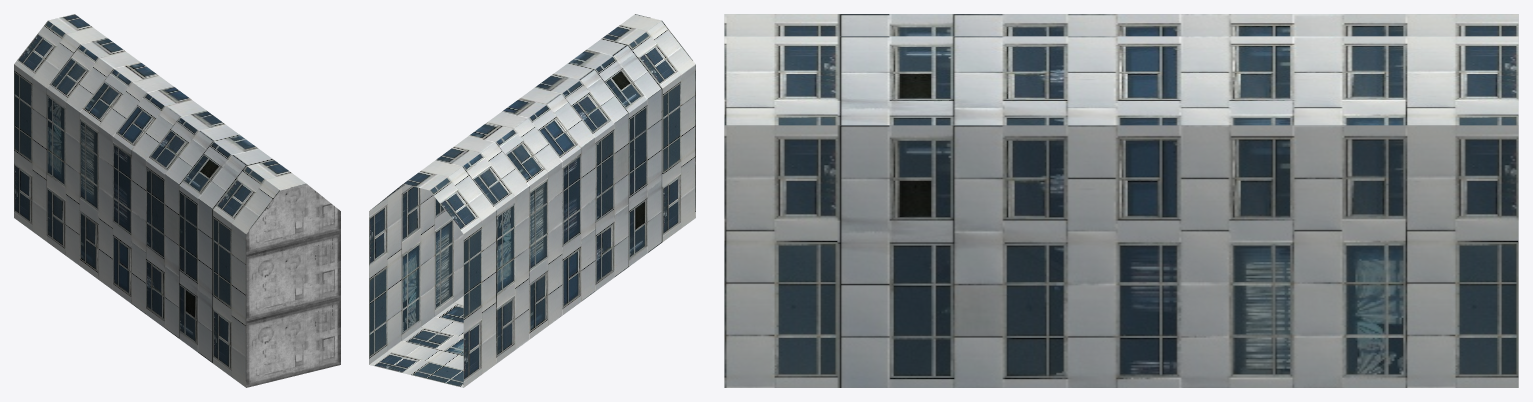
The model's file is building-4.obj.
3 renders of one model, left to right at view 1: azimuth 30°, elevation 25°; view 2: azimuth 150°, elevation 25°; view 3: azimuth 270°, elevation 25°, orthographic. The views are drawn at different scales.
Bounding box in the file's own units: 4.19 × 8 × 17.81.
